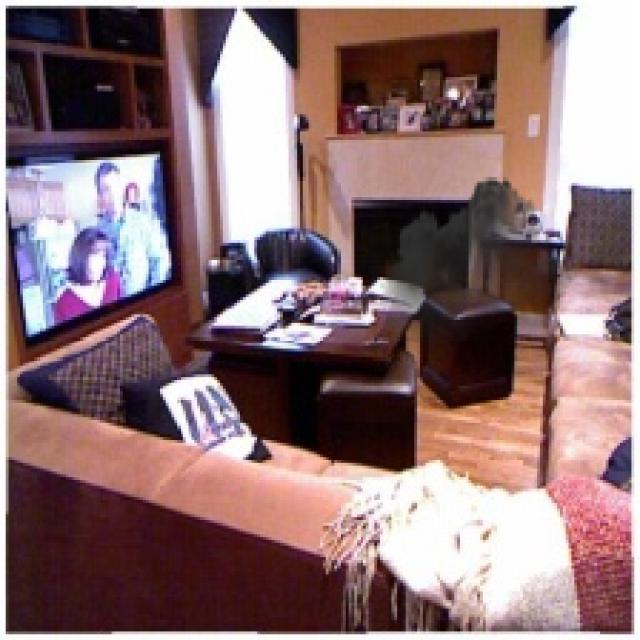Smoke: (380, 168, 580, 374)
